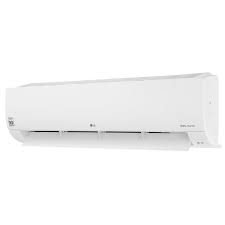ac: (3, 73, 225, 153)
